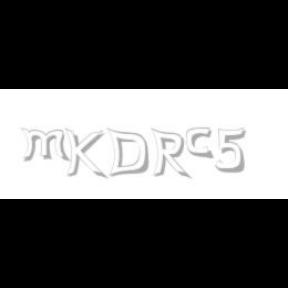5: (215, 128, 246, 174)
D: (106, 128, 148, 178)
K: (64, 128, 104, 180)
R: (150, 128, 188, 180)
c: (186, 128, 214, 160)
m: (19, 128, 71, 162)
